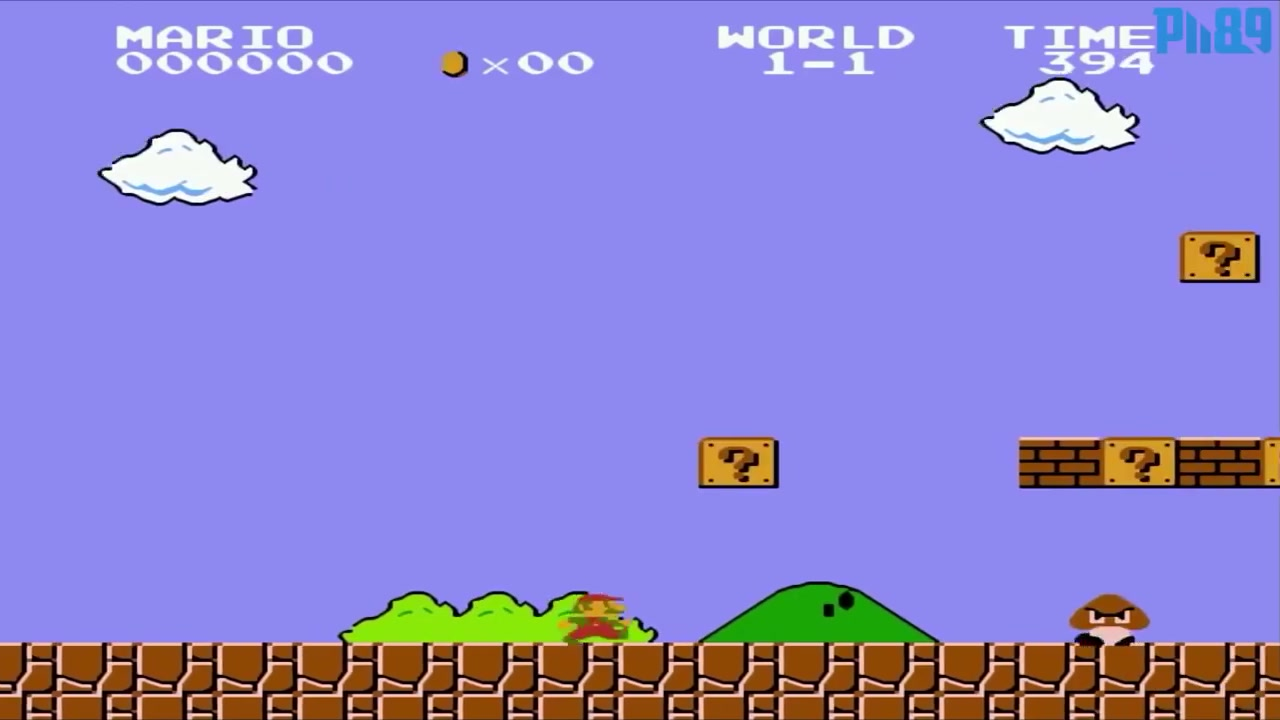mario: (547, 583, 640, 649)
